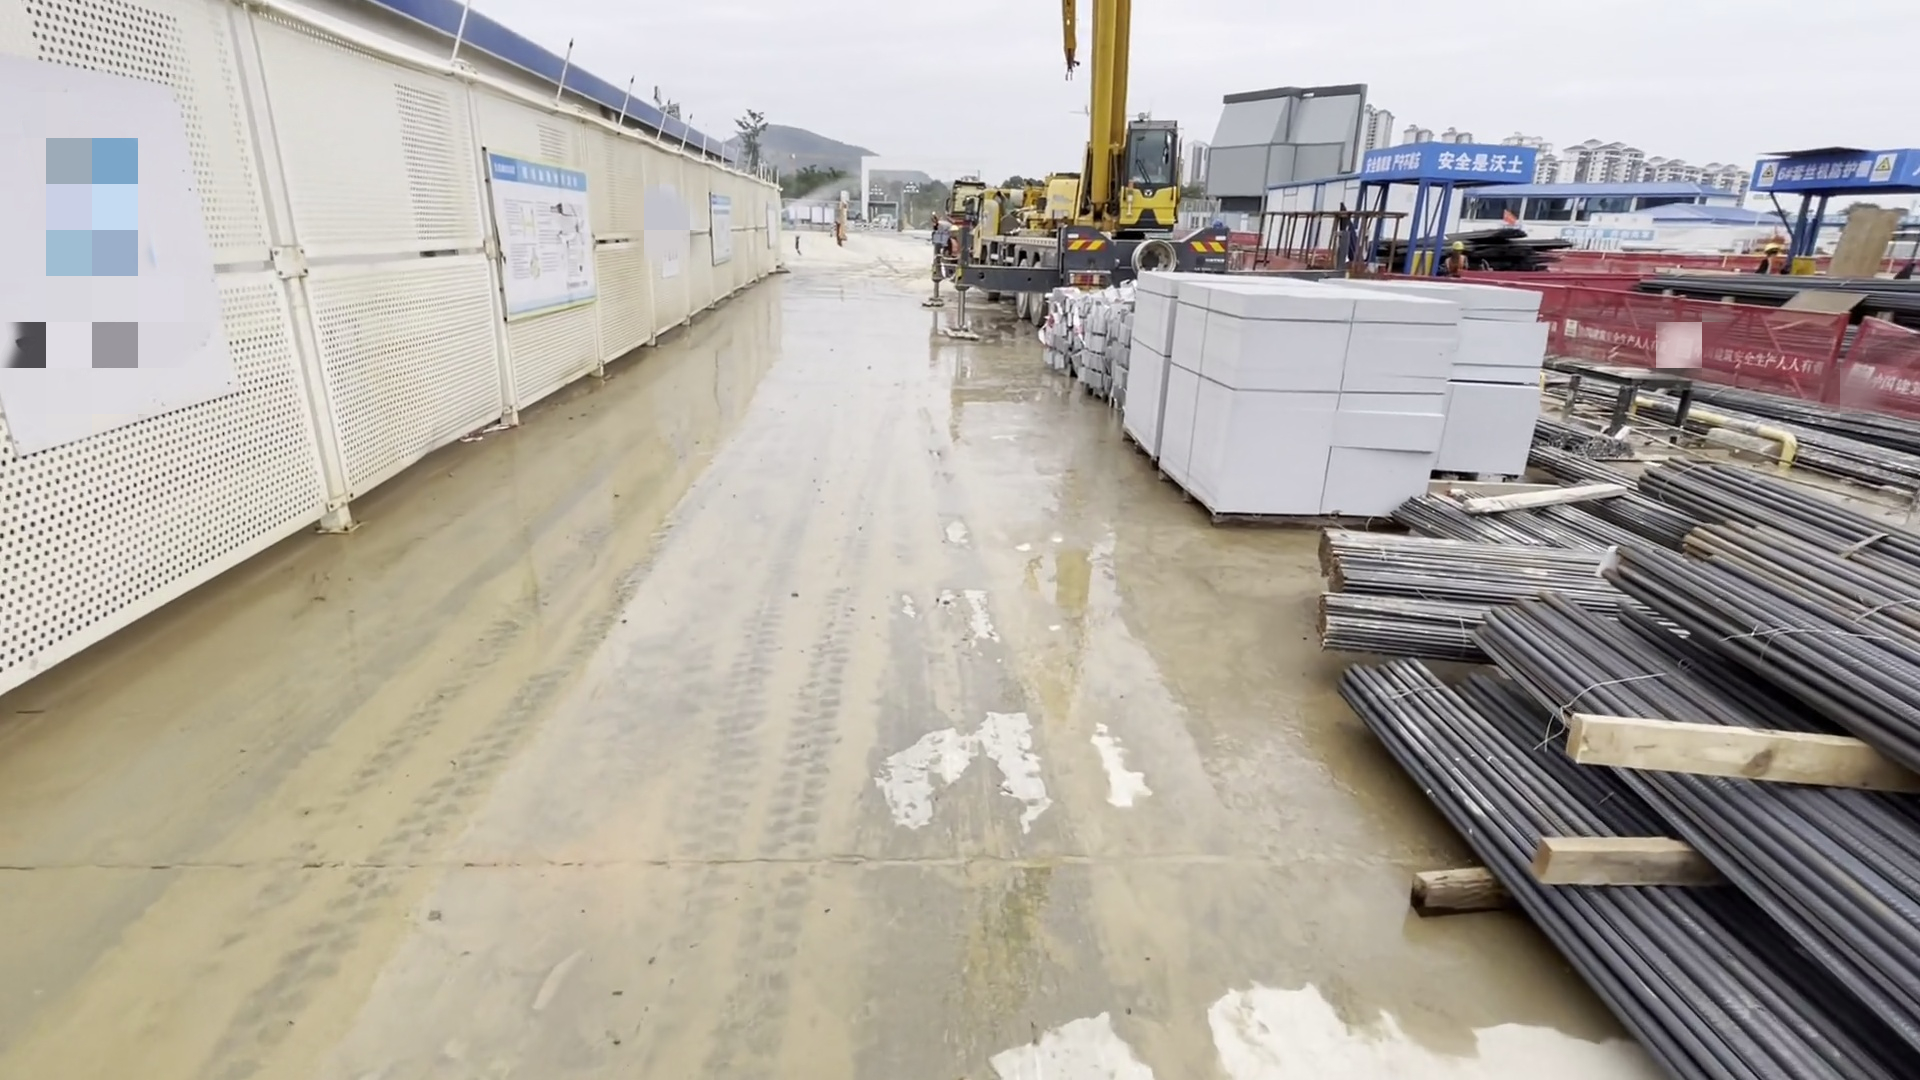brick: (1127, 270, 1552, 542)
slogan: (491, 162, 608, 320), (1734, 138, 1920, 202), (1358, 146, 1523, 183)
